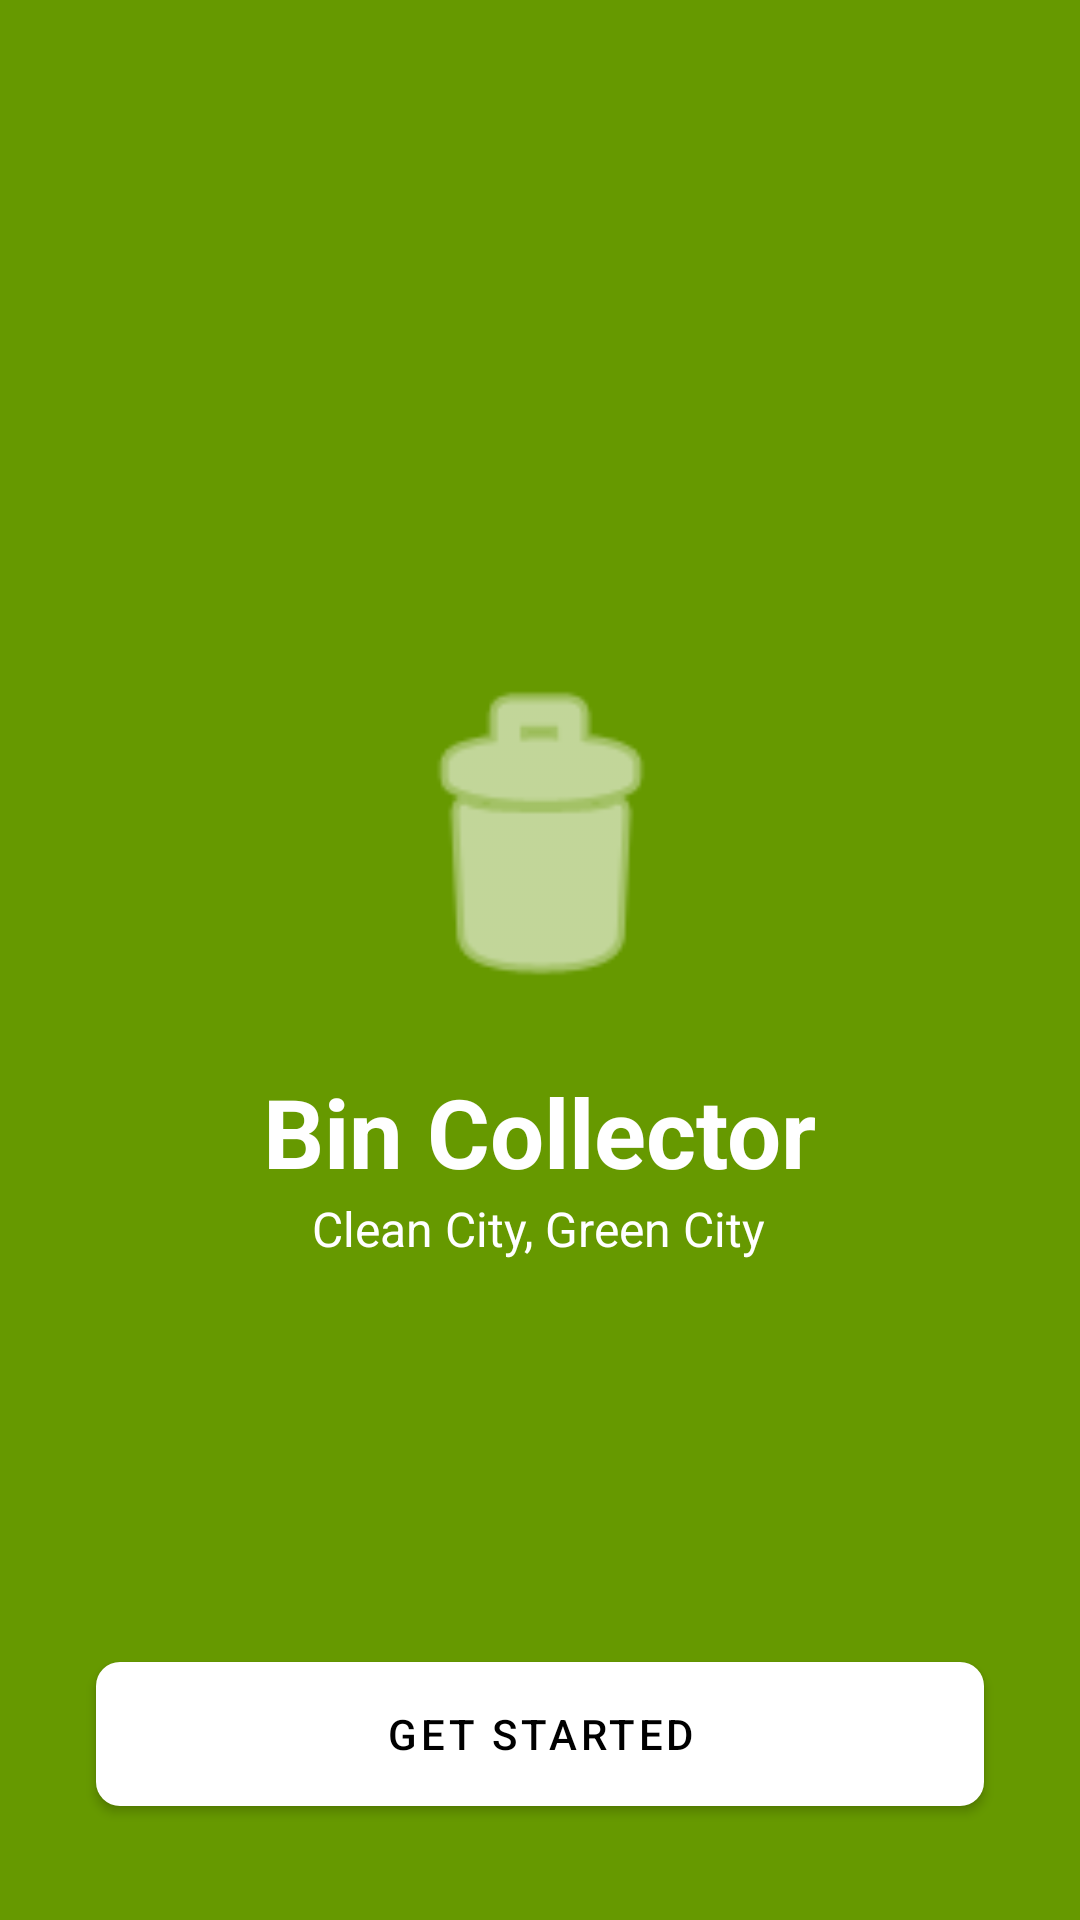

Where icons sit on this 1080w x 1920h app screen, as {"left": x1, "top": y1, "right": x2, "bottom": y2}:
delete: {"left": 439, "top": 692, "right": 643, "bottom": 974}
